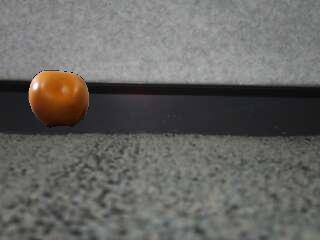Potato: (29, 70, 90, 126)
